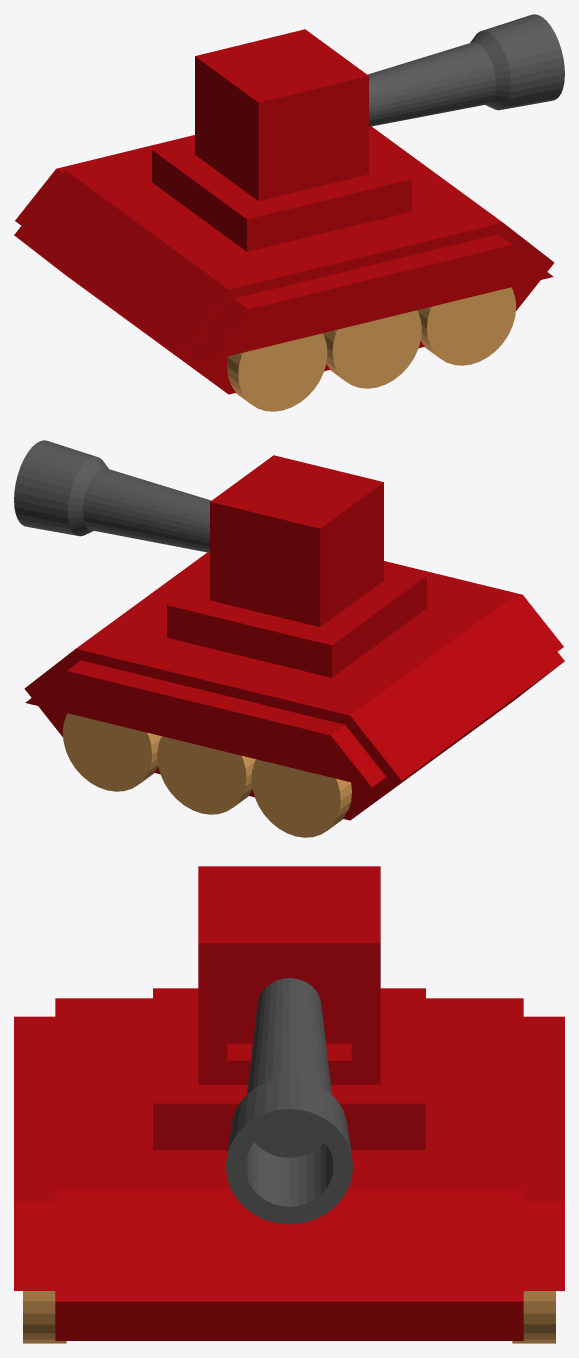
File: tank.glb
3 renders of one model, top to bottom at view 1: azimuth 30°, elevation 25°; view 2: azimuth 150°, elevation 25°; view 3: azimuth 270°, elevation 25°, orthographic. The views are drawn at different scales.
Visible parts, largest first — view 1: Base, Cube, Cylinder.003, Cylinder.001, Cylinder, Cylinder.002; view 2: Base, Cube, Cylinder.003, Cylinder.001, Cylinder, Cylinder.002; view 3: Base, Cube, Cylinder.003, Cylinder.002.
Part boxes in pixels (<box>): Base: <box>14,126,554,394</box>; Cube: <box>152,29,411,251</box>; Cylinder.003: <box>367,14,564,126</box>; Cylinder.001: <box>227,333,327,411</box>; Cylinder: <box>323,310,421,388</box>; Cylinder.002: <box>417,287,516,365</box>; Base: <box>24,552,564,820</box>; Cube: <box>167,455,426,677</box>; Cylinder.003: <box>14,440,211,552</box>; Cylinder.001: <box>251,759,351,837</box>; Cylinder: <box>157,736,255,814</box>; Cylinder.002: <box>62,713,161,791</box>; Base: <box>14,998,564,1340</box>; Cube: <box>153,866,425,1150</box>; Cylinder.003: <box>226,978,352,1224</box>; Cylinder.002: <box>23,1291,555,1343</box>.
Size of the model in its own units: 2.37 by 1.29 by 1.76.
